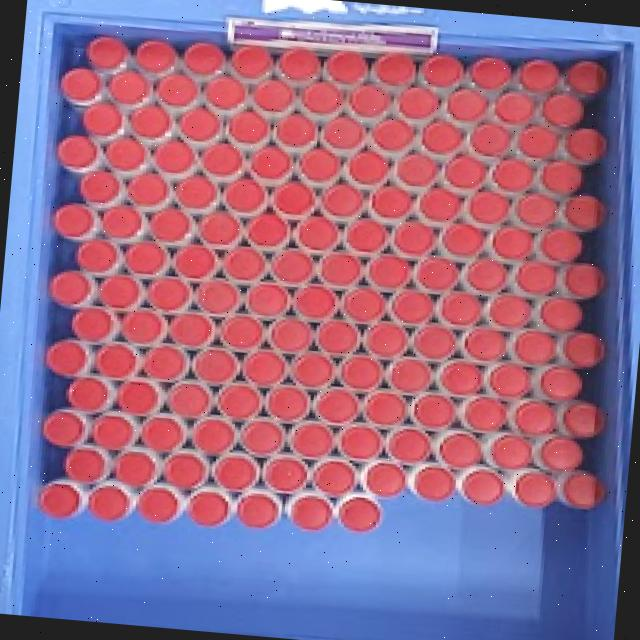vials: (38, 479, 87, 519), (42, 408, 92, 447), (556, 470, 605, 509), (335, 492, 382, 532), (64, 444, 112, 483), (456, 465, 504, 504), (88, 481, 134, 521), (212, 452, 259, 491), (164, 449, 209, 489), (239, 417, 285, 456), (236, 489, 282, 528), (287, 421, 334, 459), (140, 414, 187, 452), (136, 485, 184, 522), (192, 416, 237, 455), (385, 426, 431, 464), (360, 459, 406, 497), (187, 487, 231, 526), (337, 423, 383, 460), (264, 454, 308, 492), (265, 385, 310, 422), (410, 392, 455, 429), (463, 395, 507, 432), (312, 458, 356, 495), (219, 314, 264, 350), (121, 309, 167, 344), (340, 354, 383, 391), (167, 381, 210, 418), (85, 36, 129, 72), (291, 352, 335, 388), (288, 494, 332, 530), (344, 219, 389, 254), (194, 348, 239, 383), (143, 345, 188, 380), (217, 383, 262, 418), (173, 244, 216, 280), (364, 322, 407, 358), (243, 351, 286, 387), (316, 388, 359, 424), (341, 288, 385, 323), (293, 285, 337, 320), (170, 312, 214, 347), (388, 357, 432, 392), (47, 339, 88, 376), (439, 432, 481, 468), (392, 220, 435, 255), (196, 279, 239, 314), (148, 276, 191, 311), (99, 274, 142, 309), (270, 317, 313, 352), (116, 380, 159, 415), (540, 436, 583, 471), (116, 451, 159, 486), (246, 282, 290, 316), (564, 401, 604, 438), (514, 472, 555, 508), (225, 178, 267, 213), (368, 254, 410, 289), (125, 241, 167, 276), (316, 320, 358, 355), (439, 360, 481, 395), (96, 343, 138, 378), (67, 377, 109, 412), (201, 142, 244, 176), (296, 216, 339, 250), (415, 257, 458, 291), (271, 249, 314, 283), (488, 294, 531, 328), (413, 324, 456, 358), (324, 51, 368, 84), (462, 327, 506, 360), (515, 399, 555, 435), (440, 291, 481, 326), (489, 363, 530, 398), (491, 434, 532, 469), (565, 60, 607, 94), (420, 120, 462, 154), (275, 114, 317, 148), (223, 247, 265, 281), (540, 297, 582, 331), (391, 290, 433, 324), (364, 390, 406, 424), (79, 170, 123, 202), (61, 67, 101, 102), (50, 271, 90, 306), (72, 307, 112, 342), (564, 332, 604, 367), (93, 414, 133, 449), (108, 70, 149, 104), (82, 102, 123, 136), (419, 188, 460, 222), (322, 183, 363, 217), (176, 175, 217, 209), (541, 229, 582, 263), (247, 213, 288, 247), (53, 203, 94, 237), (515, 261, 556, 295), (541, 366, 582, 400), (278, 48, 320, 81), (231, 45, 273, 78), (183, 42, 225, 75), (301, 81, 343, 114), (444, 155, 486, 188), (56, 135, 98, 168), (199, 211, 241, 244), (566, 263, 605, 298), (415, 466, 454, 501), (565, 128, 605, 162), (180, 107, 220, 141), (542, 160, 582, 194), (493, 226, 533, 260), (151, 208, 191, 242), (470, 56, 511, 89), (374, 52, 415, 85), (323, 116, 364, 149), (228, 111, 269, 144), (130, 105, 171, 138), (466, 259, 507, 292), (320, 252, 361, 285), (134, 40, 176, 72), (349, 85, 391, 117), (156, 74, 198, 106), (442, 223, 484, 255), (76, 240, 118, 272), (518, 125, 557, 159), (514, 329, 553, 363), (543, 93, 583, 126), (495, 91, 535, 124), (254, 79, 294, 112), (206, 76, 246, 109), (470, 123, 510, 156), (154, 139, 194, 172), (102, 205, 142, 238), (422, 54, 463, 86), (447, 88, 488, 120), (398, 87, 439, 119), (251, 146, 292, 178), (516, 193, 557, 225), (469, 191, 510, 223), (566, 195, 604, 229), (371, 186, 410, 219), (493, 159, 533, 191), (128, 173, 168, 205), (273, 183, 314, 214), (520, 59, 558, 92), (300, 148, 338, 181), (349, 152, 388, 184), (106, 138, 145, 170), (373, 119, 413, 150), (397, 154, 438, 184)
